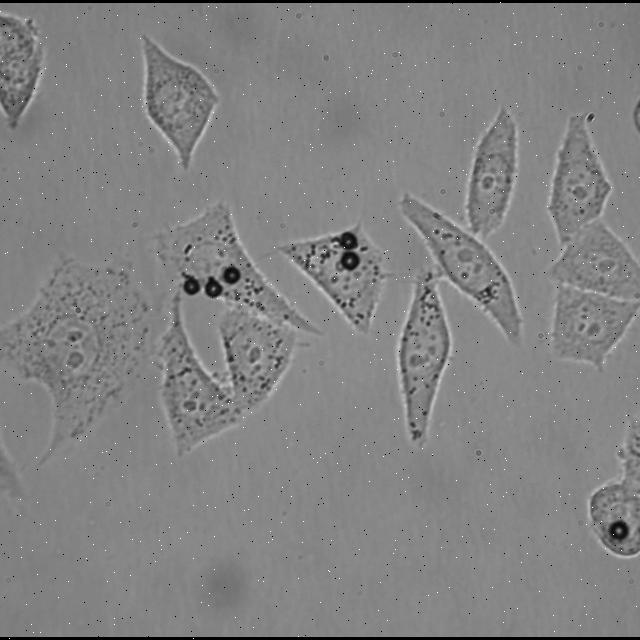microbeads: (610, 522, 632, 544), (224, 262, 240, 284), (180, 278, 198, 296), (340, 253, 358, 271), (340, 235, 356, 255), (206, 280, 220, 298)
